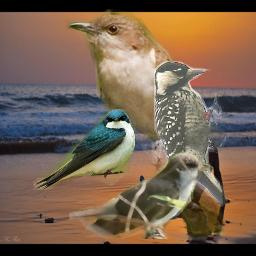Cuckoo: (65, 9, 225, 240), (69, 151, 213, 239)
Swallow: (33, 109, 136, 190)
Woodpecker: (154, 61, 229, 207)
